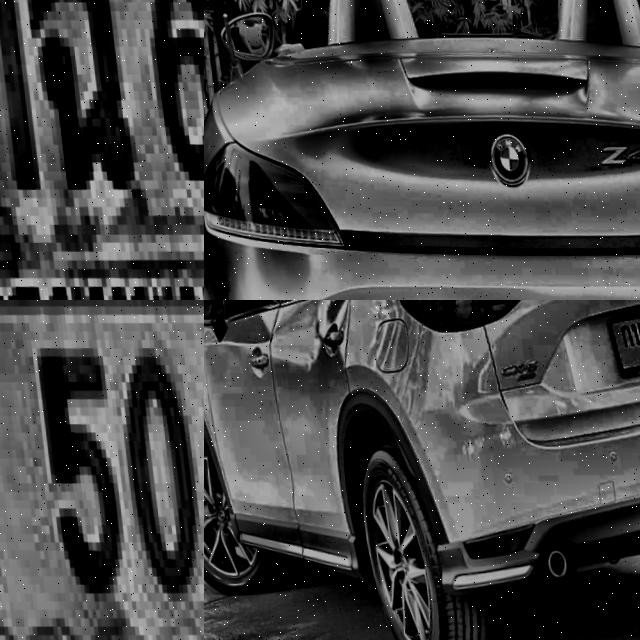license-plate: (0, 300, 204, 640), (0, 0, 204, 300), (600, 300, 640, 384)
